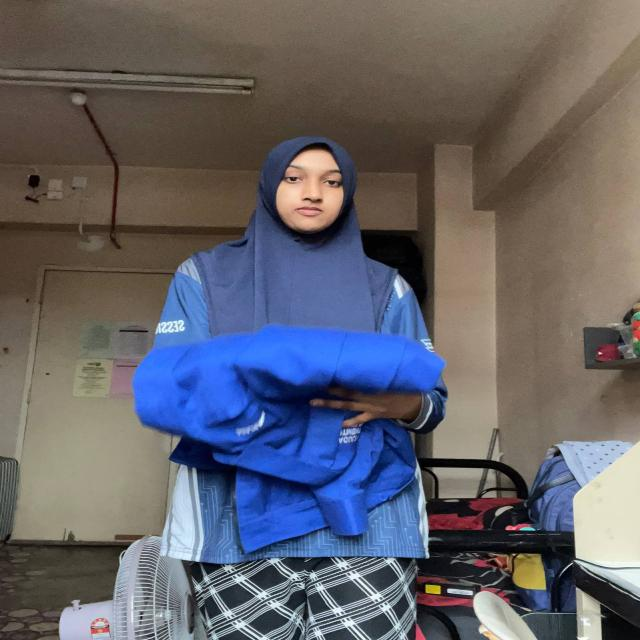person_without_labcoat: (133, 137, 446, 640)
